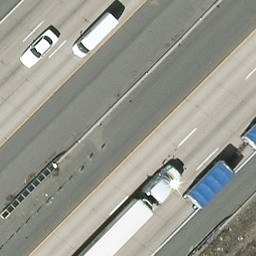car: (16, 28, 61, 71)
van: (73, 14, 118, 61)
